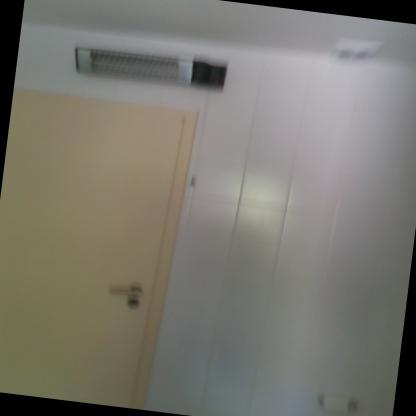closed: (0, 79, 217, 414)
